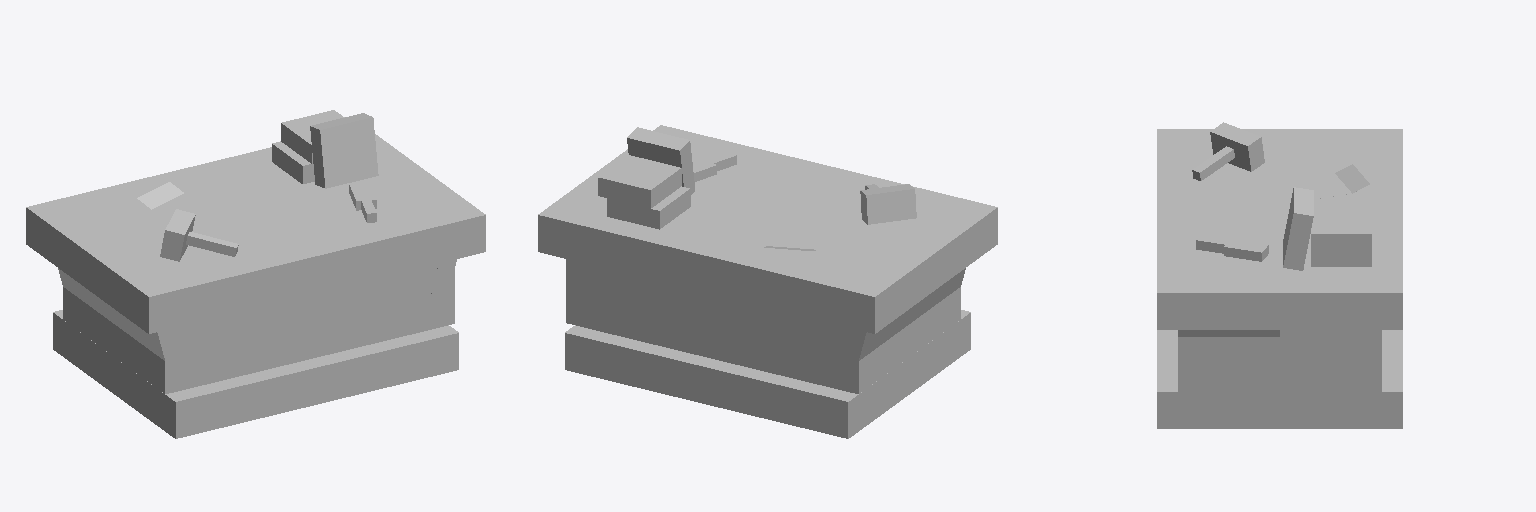
File: aztec_crafting_station.obj
The picture shows the model from 3 angles: view 1: azimuth 30°, elevation 25°; view 2: azimuth 150°, elevation 25°; view 3: azimuth 270°, elevation 25°; orthographic projection.
Parts seen in each view (by area): view 1: cube2, cube1, cube3, cube13, cube6, cube5, cube15, cube11, cube19, cube14, cube9, cube4 (+2 smaller); view 2: cube2, cube1, cube3, cube6, cube15, cube13, cube11, cube4, cube14, cube19, cube10, cube5 (+1 smaller); view 3: cube2, cube1, cube7, cube8, cube15, cube13, cube11, cube19, cube14, cube17, cube9, cube12 (+1 smaller).
Boxes of the visible parts, box(x1,y1,x2,y2) form: cube2: box(26, 134, 485, 333); cube1: box(53, 310, 458, 438); cube3: box(183, 266, 430, 389); cube13: box(310, 113, 378, 188); cube6: box(63, 287, 182, 393); cube5: box(109, 305, 182, 391); cube15: box(281, 110, 344, 163); cube11: box(160, 209, 195, 261); cube19: box(152, 193, 230, 225); cube14: box(272, 141, 314, 183); cube9: box(431, 259, 456, 329); cube4: box(58, 268, 113, 323); cube2: box(538, 125, 997, 333); cube1: box(565, 310, 970, 438); cube3: box(593, 266, 840, 389); cube6: box(841, 287, 960, 393); cube15: box(598, 155, 681, 208); cube13: box(627, 127, 694, 194); cube11: box(860, 184, 916, 224); cube4: box(841, 305, 914, 391); cube14: box(607, 186, 690, 229); cube19: box(768, 221, 827, 249); cube10: box(567, 259, 592, 329); cube5: box(910, 268, 965, 323); cube2: box(1157, 129, 1402, 329); cube1: box(1157, 330, 1402, 428); cube7: box(1280, 330, 1381, 395); cube8: box(1178, 337, 1279, 394); cube15: box(1311, 209, 1371, 252); cube13: box(1283, 187, 1313, 270); cube11: box(1210, 122, 1264, 171); cube19: box(1277, 173, 1351, 198); cube14: box(1311, 253, 1371, 266); cube17: box(1224, 239, 1268, 261); cube9: box(1178, 330, 1279, 336); cube12: box(1192, 146, 1234, 180).
Size of the model in its own units: 2.38 by 1.39 by 1.5.